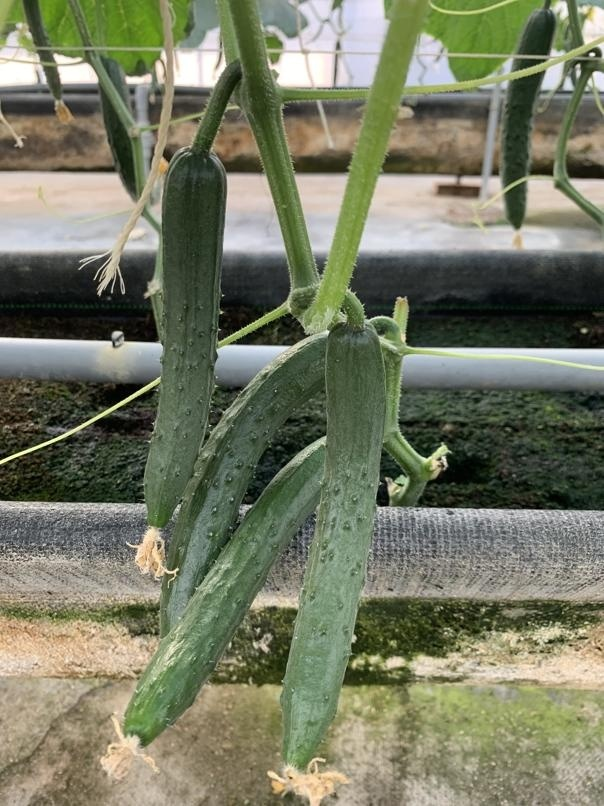mature: (118, 428, 335, 752), (269, 320, 388, 775), (159, 331, 327, 633), (137, 141, 229, 534)
